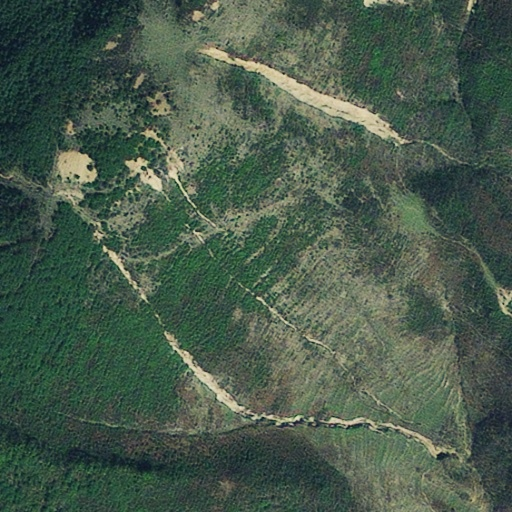landslide: (204, 46, 409, 148), (125, 126, 185, 195), (56, 150, 97, 183)
